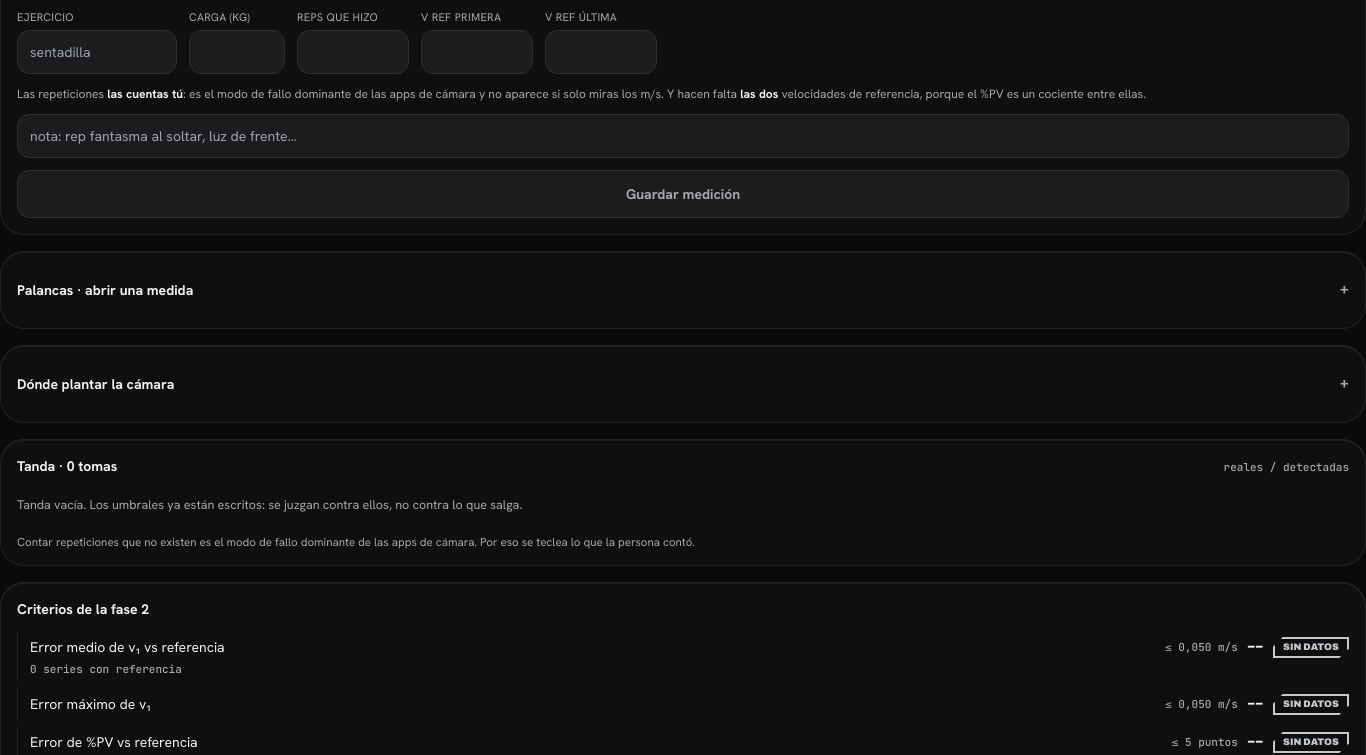
Test: donde plantar la camara › viene plegado: se consulta al montar el tripode, no cada vez
The width and height of the screenshot is (1366, 755).
(page scrolled)
Click the button "Dónde plantar la cámara +" at (96, 384), box [17, 362, 1349, 406]
(page scrolled)
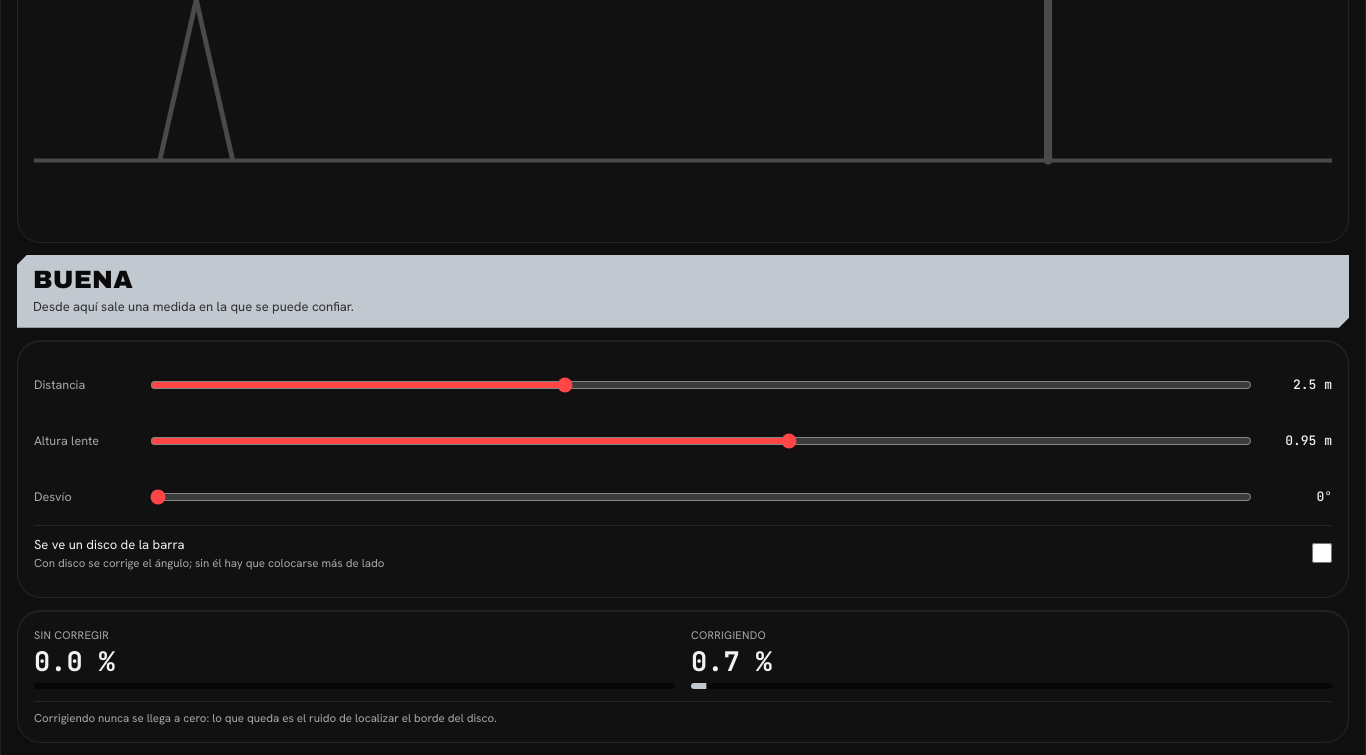
Now the slider labelled "Distancia" is shown, box [150, 363, 1252, 407]
